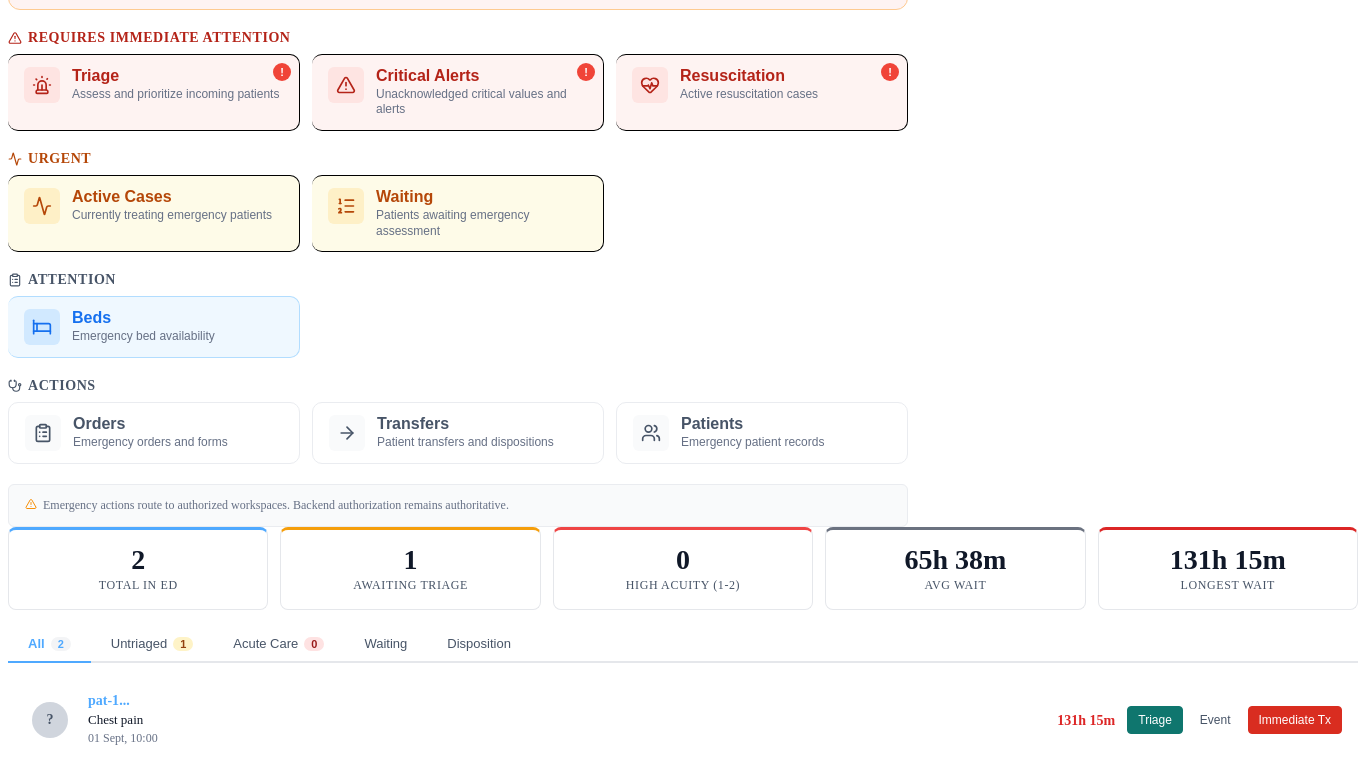
it: EmergencyPage contract alignment › exposes immediate treatment for er:disposition holders
The width and height of the screenshot is (1366, 768).
(page scrolled)
Click the button "Immediate Tx": (1295, 720) [1248,706,1342,734]
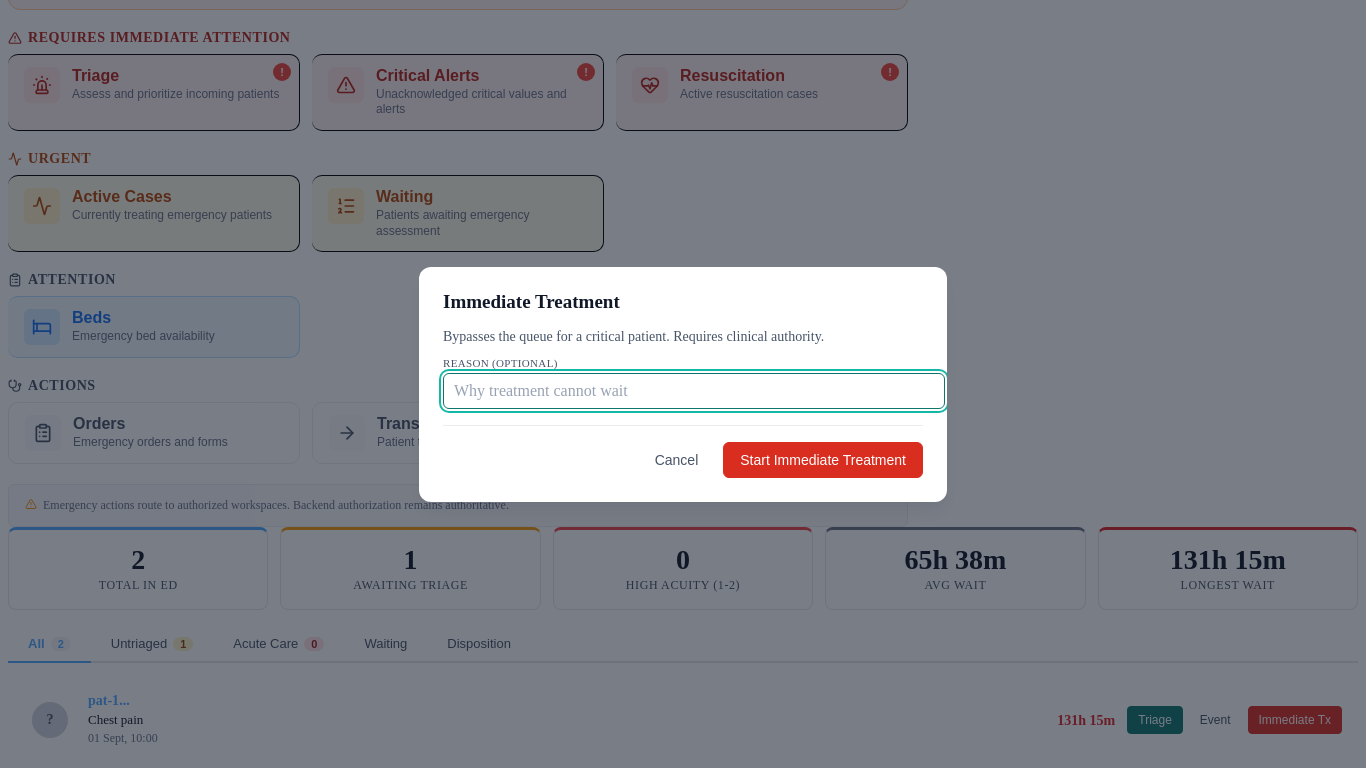
Check: the heading "Immediate Treatment" is shown, box [443,290,620,312]
